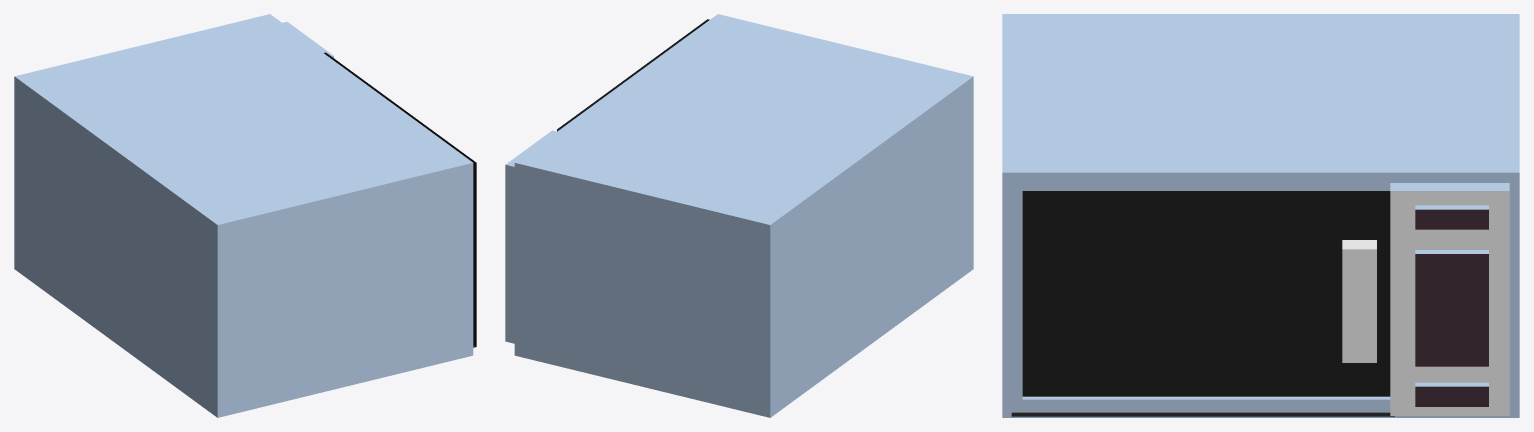
File: micro.fbx
3 views of the same model, side by side, from view 1: azimuth 30°, elevation 25°; view 2: azimuth 150°, elevation 25°; view 3: azimuth 270°, elevation 25° (orthographic). The views are drawn at different scales.
Parts seen in each view (by area): view 1: Cube, Cube.001; view 2: Cube, Cube.001; view 3: Cube, Cube.001.
Part boxes in pixels (bbox=[...]): Cube: bbox=[14, 14, 473, 417]; Cube.001: bbox=[324, 52, 476, 347]; Cube: bbox=[505, 14, 973, 417]; Cube.001: bbox=[557, 19, 709, 131]; Cube: bbox=[1002, 14, 1519, 417]; Cube.001: bbox=[1011, 191, 1394, 416].
Size of the model in its own units: 104 by 69.53 by 133.
